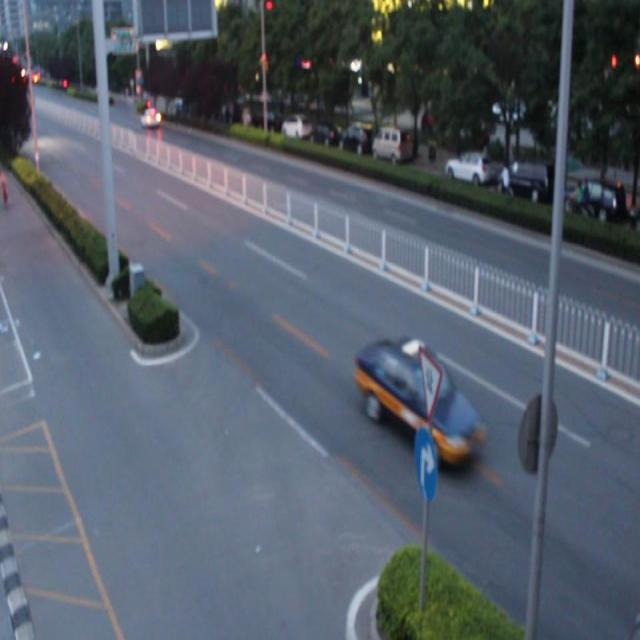car: (354, 339, 481, 466)
